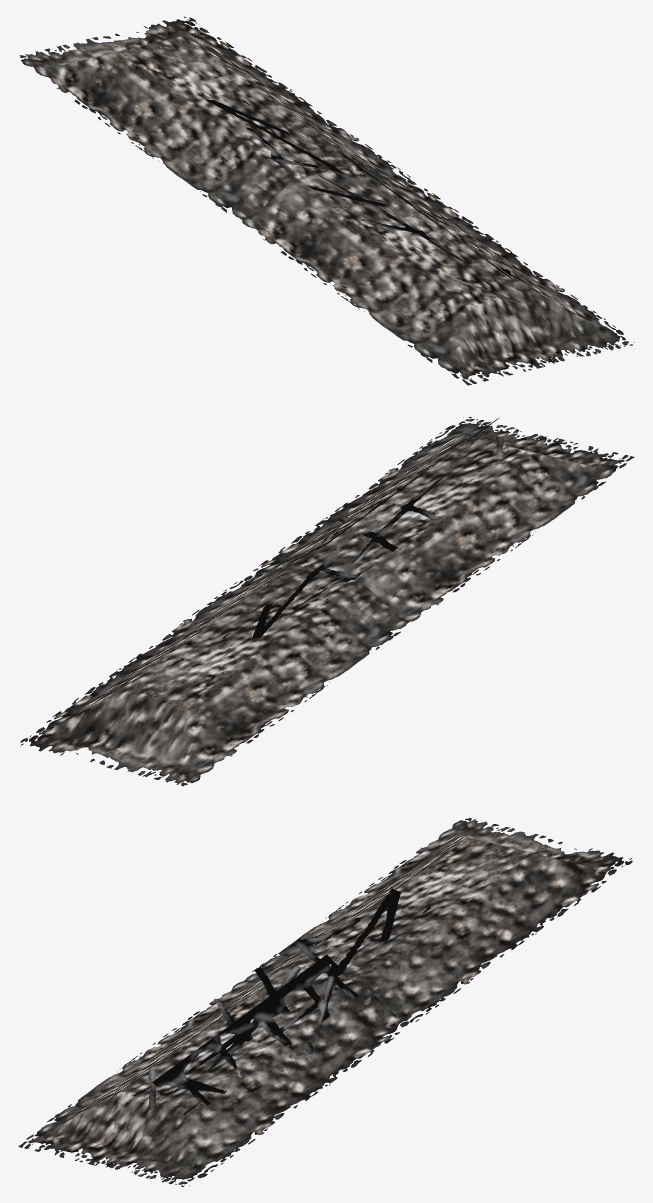
The model's file is s_admin_wing_dam.glb.
The picture shows the model from 3 angles, top to bottom: view 1: azimuth 30°, elevation 25°; view 2: azimuth 150°, elevation 25°; view 3: azimuth 330°, elevation 25°; orthographic projection.
Parts seen in each view (by area): view 1: Box01; view 2: Box01; view 3: Box01.
Boxes of the visible parts, bbox=[...] form: Box01: bbox=[19, 16, 634, 385]; Box01: bbox=[20, 417, 634, 786]; Box01: bbox=[18, 817, 632, 1186].
Size of the model in its own units: 11.9 by 3.4 by 53.07.
Materials: 2 (2 with a texture image).
